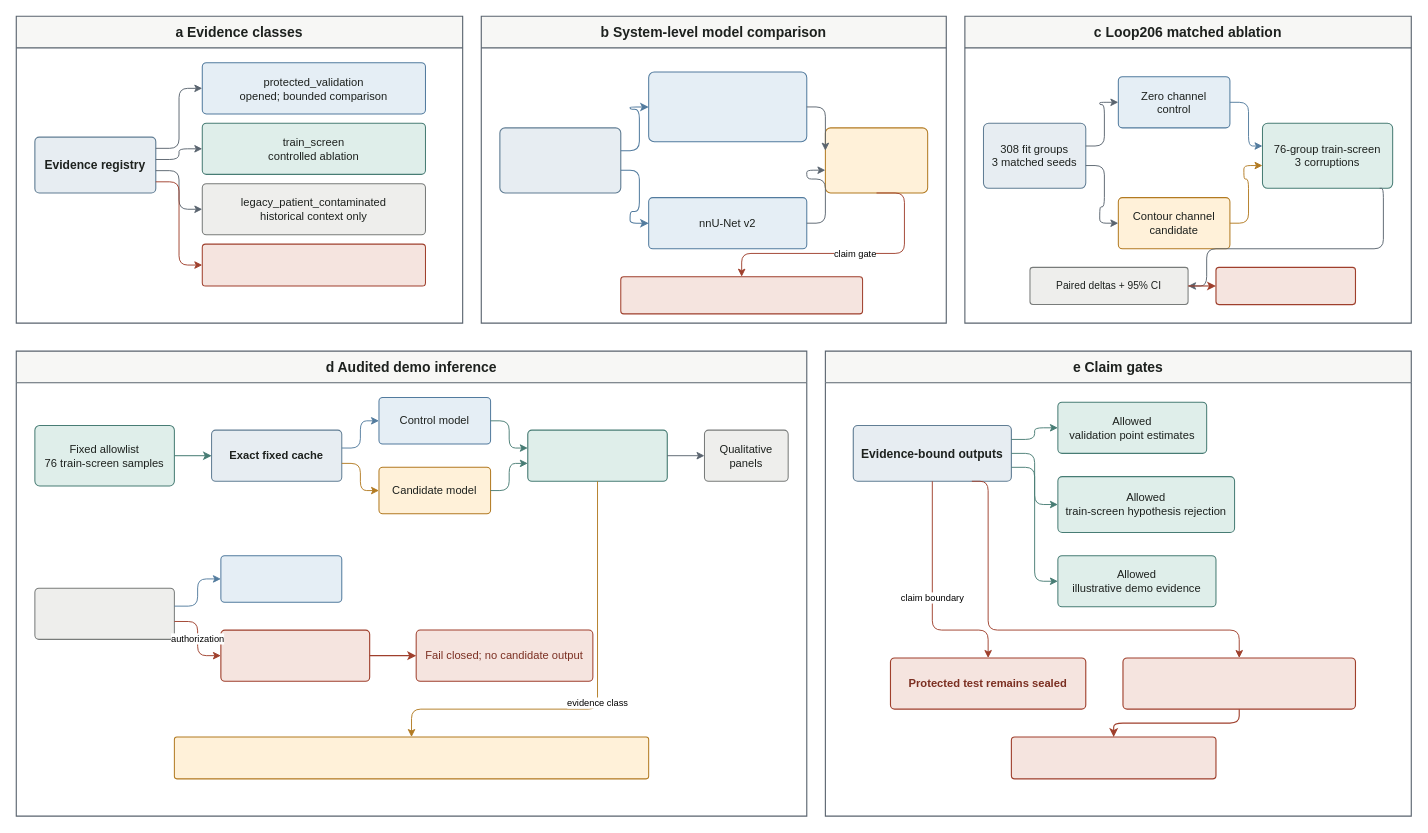
The diagram is 1428 pixels wide and 833 high, and some of its shapes have lost their labels. The centre of each missing label's shape, as x and y in pixels:
"Arbitrary upload" goes at point (104, 613).
"Candidate locked prior parity 0/76" goes at point (295, 655).
"Control only" goes at point (281, 578).
"Descriptive point estimates" goes at point (876, 160).
"Loop191 IMP-SegFormer-B3 (MiT-B3 U-Net implementation)" goes at point (727, 106).
"Not clinical evidence" goes at point (1113, 757).
"Primary gate: FAIL" goes at point (1285, 285).
"protected_test sealed" goes at point (313, 264).
"Real GPU service + receipts" goes at point (597, 455).
"scientific_sota_status = not_established" goes at point (1239, 683).
"Shared Clean-v3 validation protocol" goes at point (560, 160).
"Single run; no CI; no superiority claim" goes at point (741, 295).
"train_screen / exact_fixed_cache / historical_cache_provenance_drift" goes at point (411, 757).
